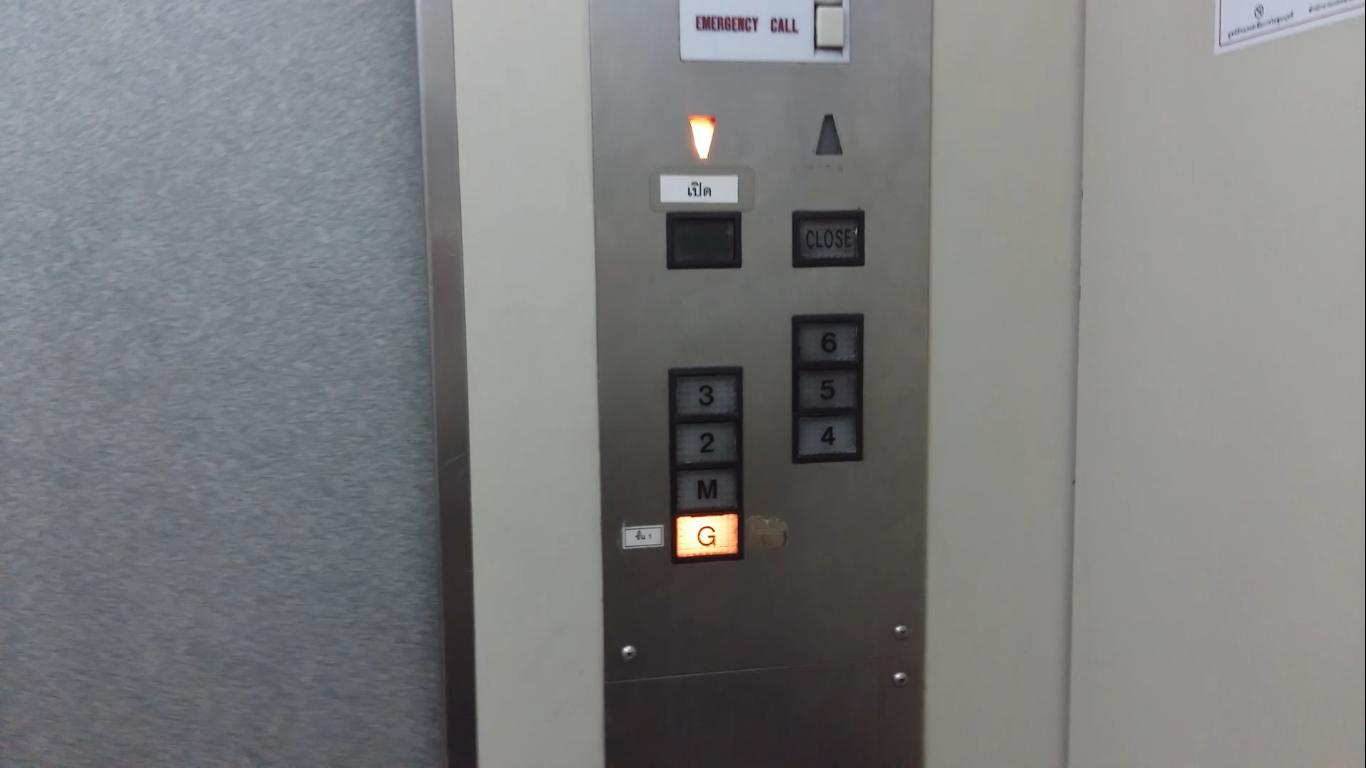2: (668, 417, 743, 465)
3: (668, 364, 743, 421)
4: (791, 409, 864, 465)
5: (791, 365, 864, 413)
6: (791, 312, 863, 367)
G: (671, 510, 742, 562)
M: (670, 464, 743, 512)
empty: (664, 210, 744, 270), (811, 2, 849, 54)
text: (791, 210, 865, 269)
